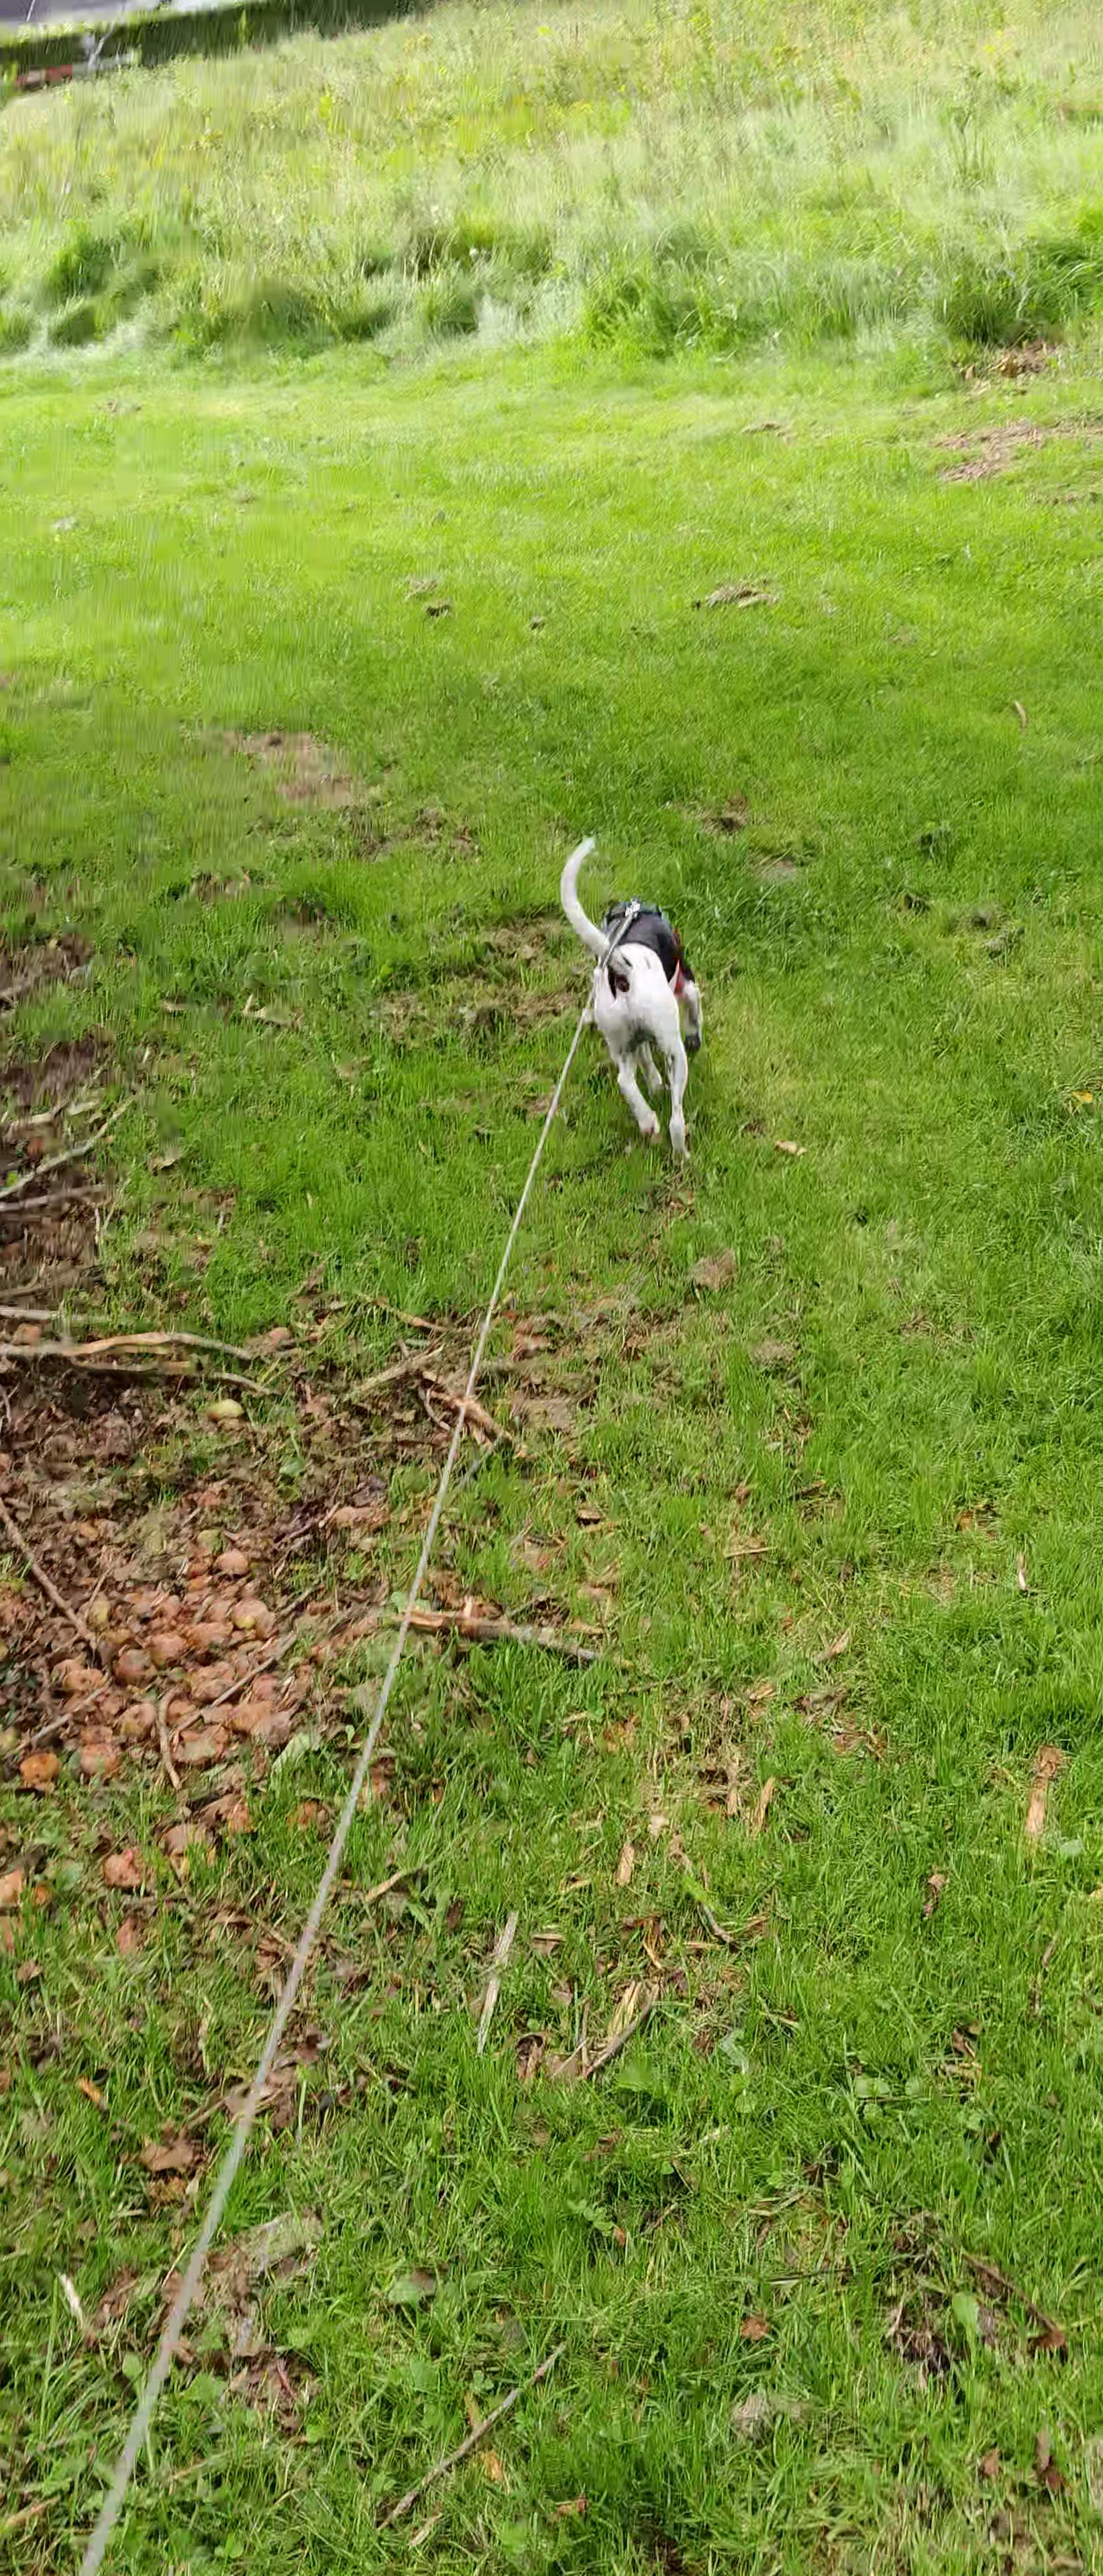Dog: (551, 826, 715, 1171)
